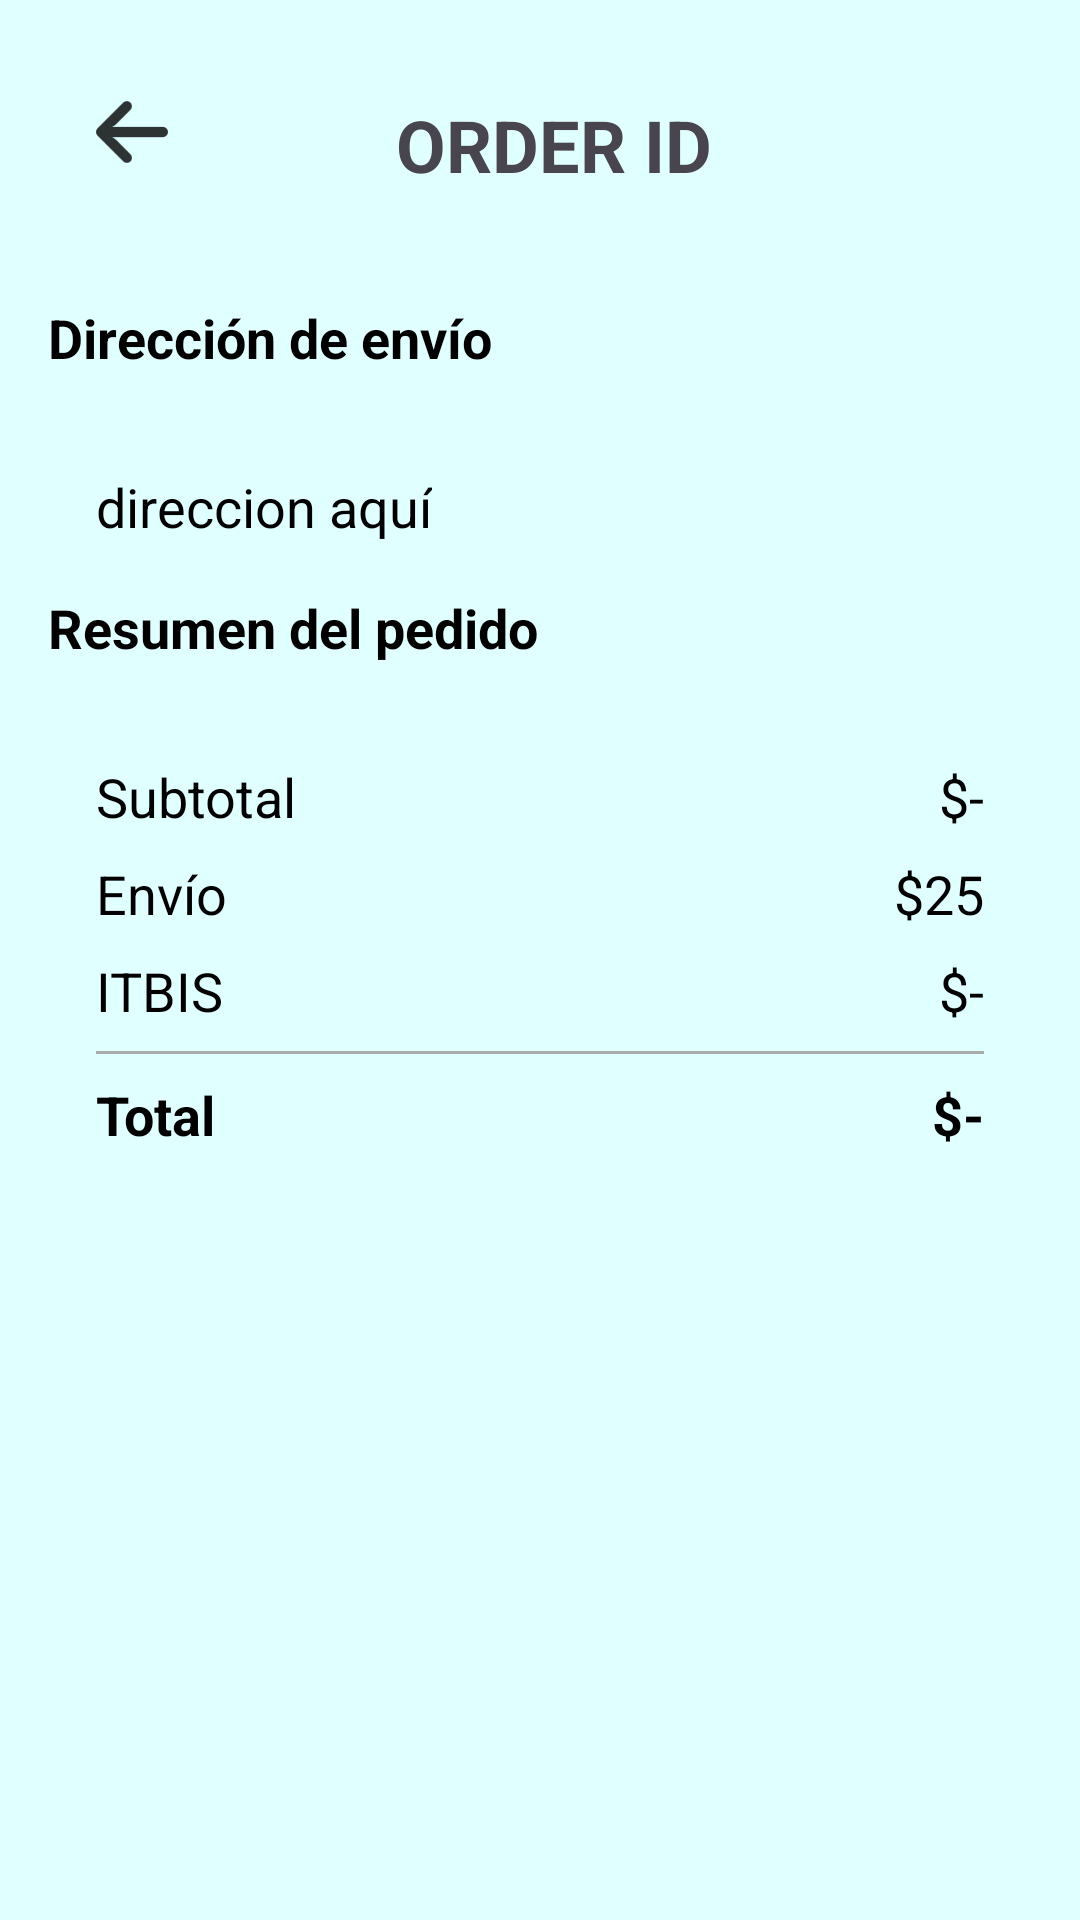

Point at icon controls on the screen. Image size 1080 × 1920, points as [x,y].
back: [132,132]
